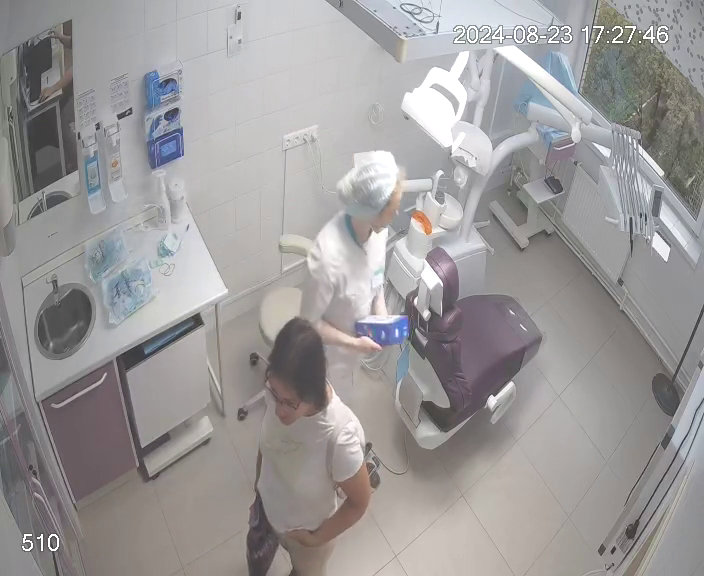Empty: (374, 251, 544, 456)
